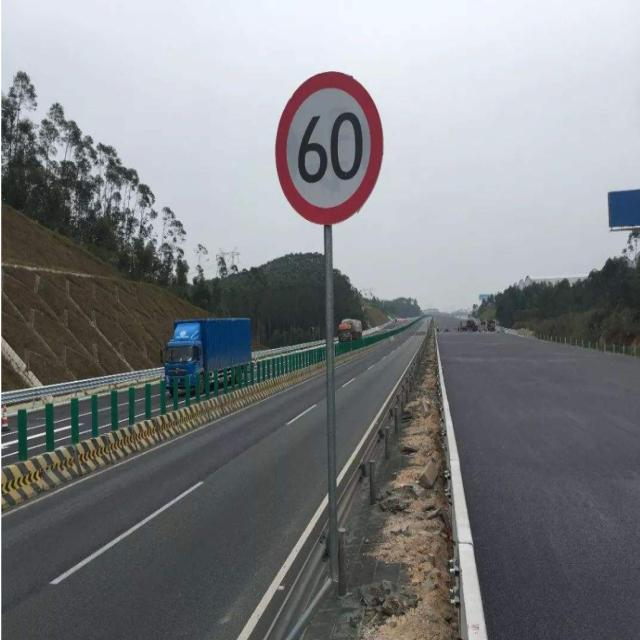speed limit 60: (275, 71, 384, 222)
